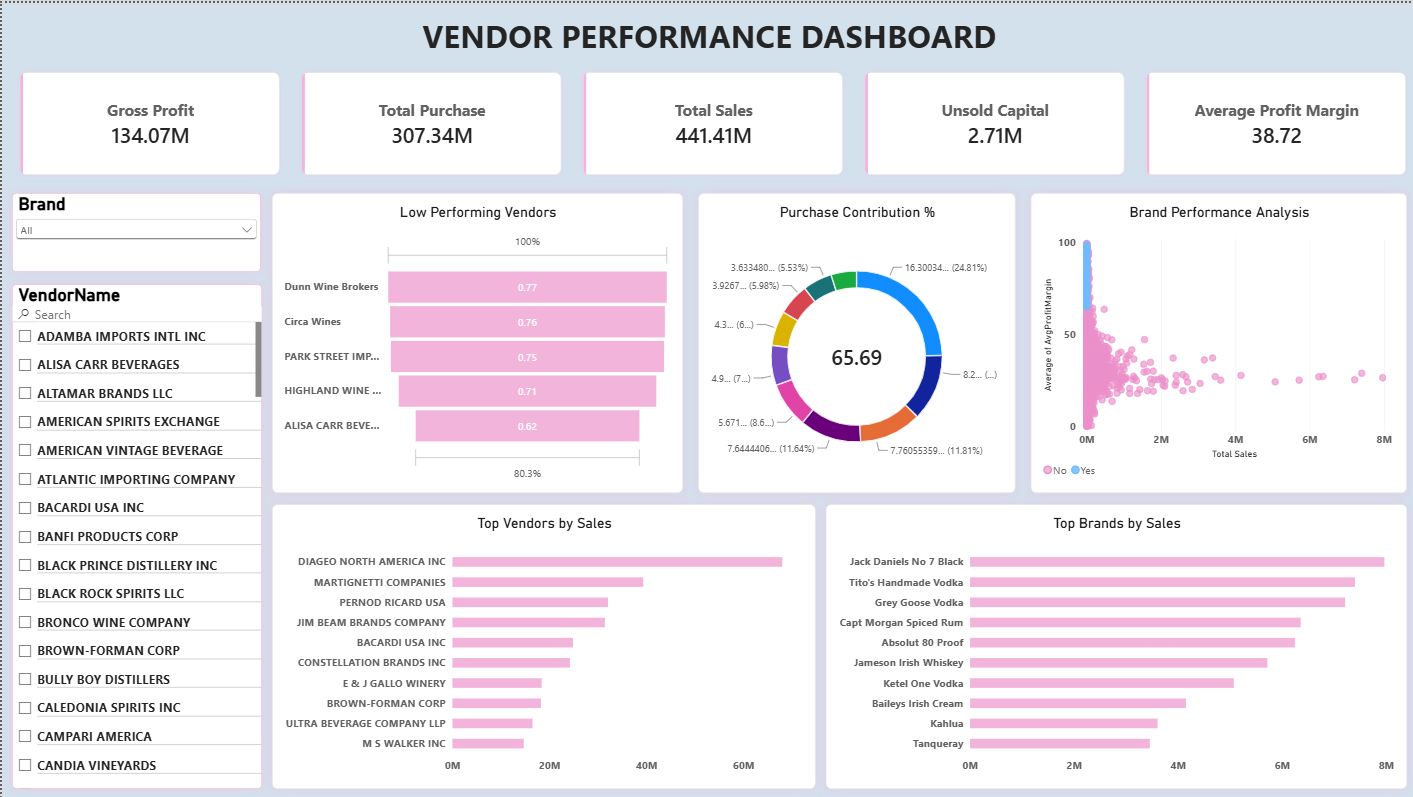

What the dashboard file says about the page in this screenshot:
{"tool":"powerbi","page":{"name":"Page 1","canvas":[1920,1080],"ordinal":0},"visuals":[{"type":"cardVisual","title":"Total Sales ($)","fields":{"Data":["vendor_summary.Gross Profit","vendor_summary.Total Purchase","vendor_summary.Total Sales","vendor_summary.Unsold Capital","vendor_summary.Average Profit Margin"]},"box":[14.4,82.3,1906.3,161.1],"z":0},{"type":"donutChart","title":"Purchase Contribution %","fields":{"Y":["Sum(PurchaseContribution.PurchaseContribution%)"],"Category":["PurchaseContribution.VendorName"]},"box":[944.8,257.3,430.2,407.5],"z":1000},{"type":"clusteredBarChart","title":"Top Vendors by Sales","fields":{"Category":["vendor_summary.VendorName"],"Y":["Sum(vendor_summary.TotalSalesDollars)"]},"box":[366.3,680.1,737.8,386.7],"z":2000},{"type":"clusteredBarChart","title":"Top Brands by Sales","fields":{"Category":["vendor_summary.Description"],"Y":["vendor_summary.Total Sales"]},"box":[1117.7,680.1,788.6,386.7],"z":3000},{"type":"funnel","title":"Low Performing Vendors","fields":{"Category":["LowTurnoverVendor.VendorName"],"Y":["Avg(LowTurnoverVendor.AvgStockTurnOver)"]},"box":[366.4,257.3,557.8,407.5],"z":4000},{"type":"scatterChart","title":"Brand Performance Analysis","fields":{"Category":["BrandPerformance.Description"],"Y":["BrandPerformance.AvgProfitMargin"],"Series":["BrandPerformance.TargetBrand"],"X":["vendor_summary.Total Sales"]},"box":[1395.5,257.3,510.5,407.5],"z":5000},{"type":"slicer","fields":{"Values":["vendor_summary.VendorName"]},"box":[13.6,381.6,339.2,685.2],"z":6000},{"type":"slicer","fields":{"Values":["vendor_summary.Brand"]},"box":[14.4,257.3,337.6,107],"z":7000},{"type":"textbox","box":[0,15.3,1919.9,81.4],"z":8000}]}

Visuals, with their boxes in screenshot pixels (x1, y1, x2, y2), scaled from the page's 1920x1080 canvas onto the 1413x797 screenshot:
"Total Sales ($)" cardVisual: bbox=[11, 61, 1412, 180]
"Purchase Contribution %" donutChart: bbox=[695, 190, 1012, 491]
"Top Vendors by Sales" clusteredBarChart: bbox=[270, 502, 813, 787]
"Top Brands by Sales" clusteredBarChart: bbox=[823, 502, 1403, 787]
"Low Performing Vendors" funnel: bbox=[270, 190, 680, 491]
"Brand Performance Analysis" scatterChart: bbox=[1027, 190, 1403, 491]
slicer - vendor_summary.VendorName: bbox=[10, 282, 260, 787]
slicer - vendor_summary.Brand: bbox=[11, 190, 259, 269]
textbox: bbox=[0, 11, 1412, 71]
